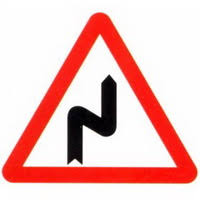Double_bend_right: (1, 12, 199, 185)
